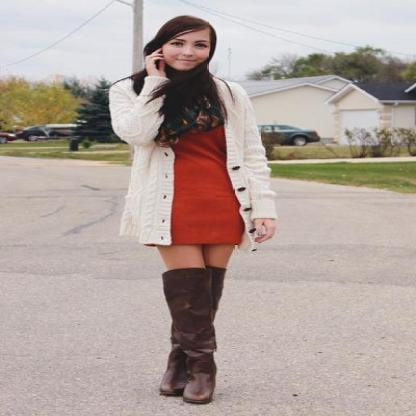jacket: (109, 71, 286, 244)
shoe: (159, 258, 226, 405)
skirt: (166, 128, 246, 248)
